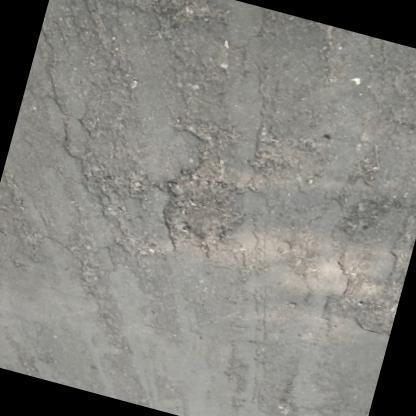pothole: (158, 119, 247, 252), (324, 249, 406, 334), (252, 116, 330, 184), (76, 151, 156, 211), (340, 174, 410, 240), (154, 0, 228, 29)
